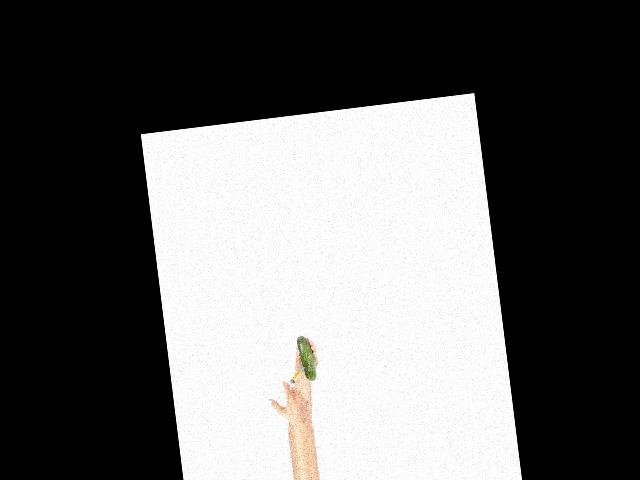cucumber: (296, 333, 316, 381)
